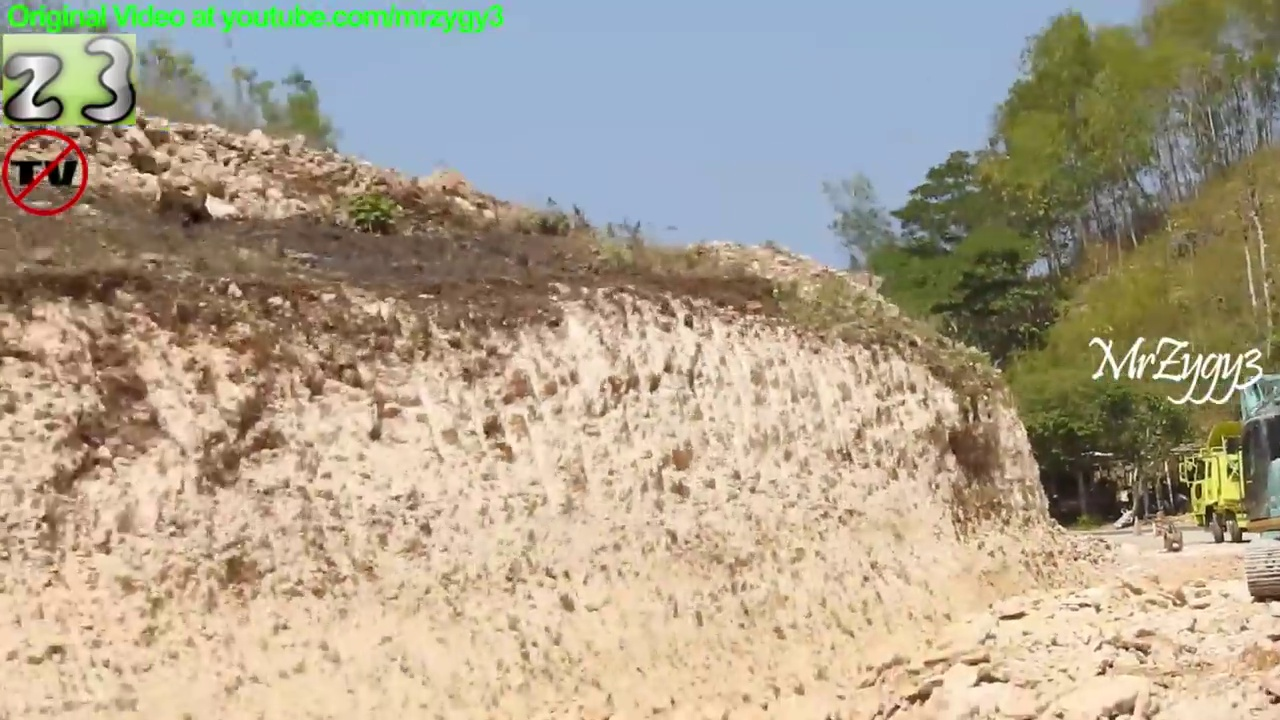excavator: (1233, 359, 1280, 606)
truck: (1169, 417, 1280, 548)
